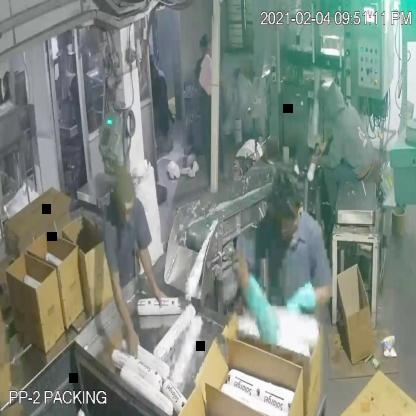glove: (240, 258, 280, 354), (287, 278, 320, 325)
no_glove: (100, 252, 143, 365), (136, 235, 168, 314)
